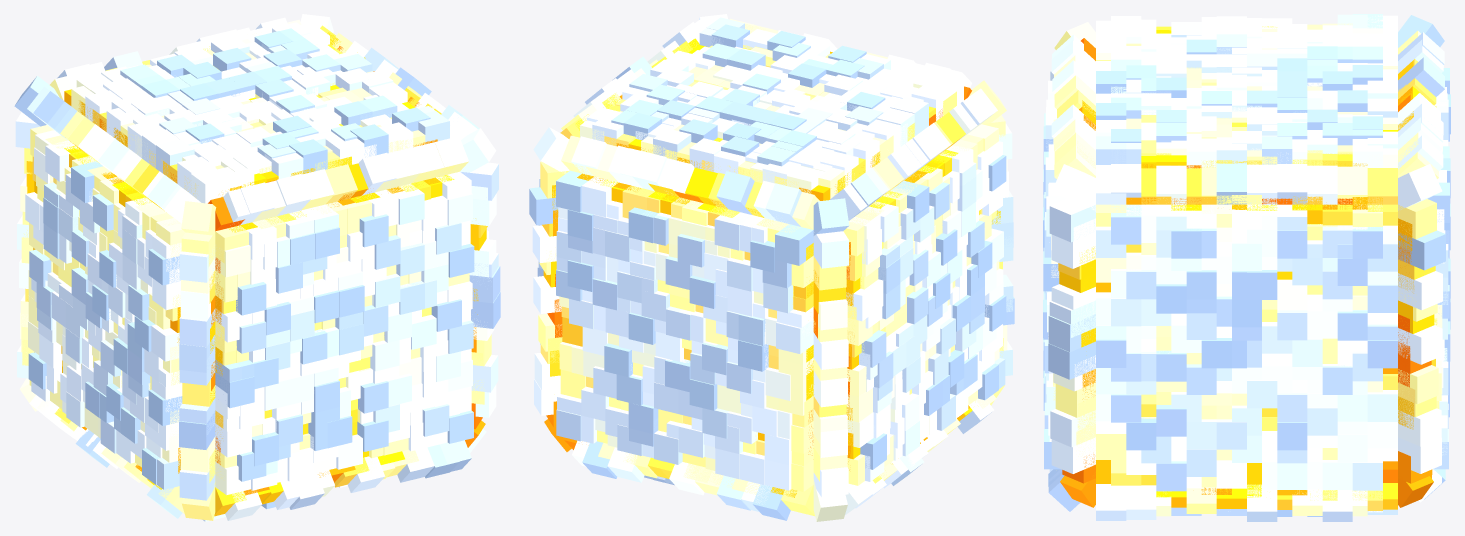
3 views of the same model, side by side, from view 1: azimuth 30°, elevation 25°; view 2: azimuth 150°, elevation 25°; view 3: azimuth 270°, elevation 25° (orthographic). The views are drawn at different scales.
Parts seen in each view (by area): view 1: 預設值; view 2: 預設值; view 3: 預設值.
Part boxes in pixels (x1,y1,x2,y2): 預設值: [14, 14, 500, 521]; 預設值: [529, 14, 1014, 521]; 預設值: [1043, 14, 1450, 521].
Size of the model in its own units: 27 by 27 by 27.
